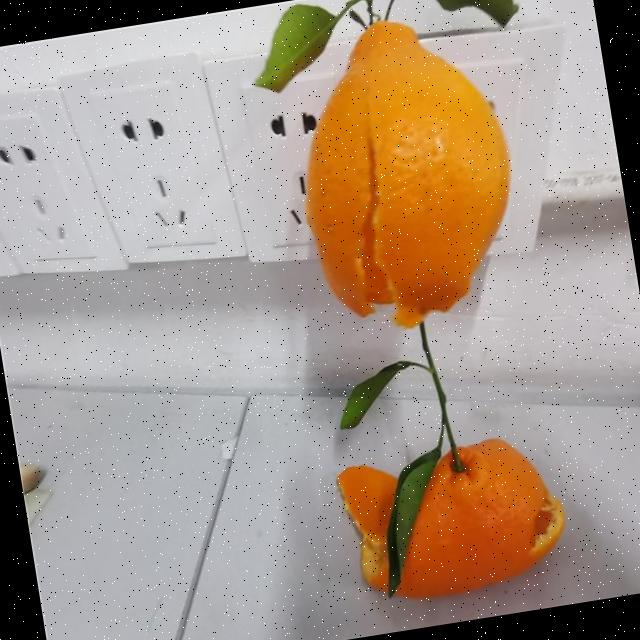orange-peel: (276, 2, 534, 342), (331, 426, 574, 610)
